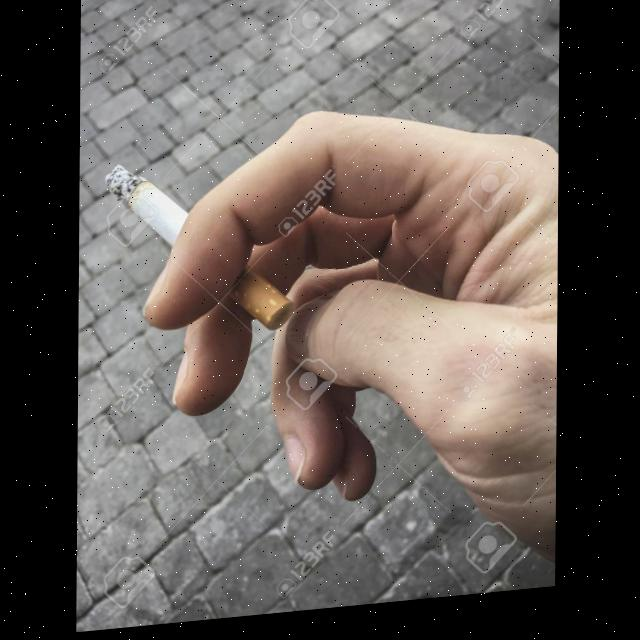cigarette: (102, 153, 294, 349)
